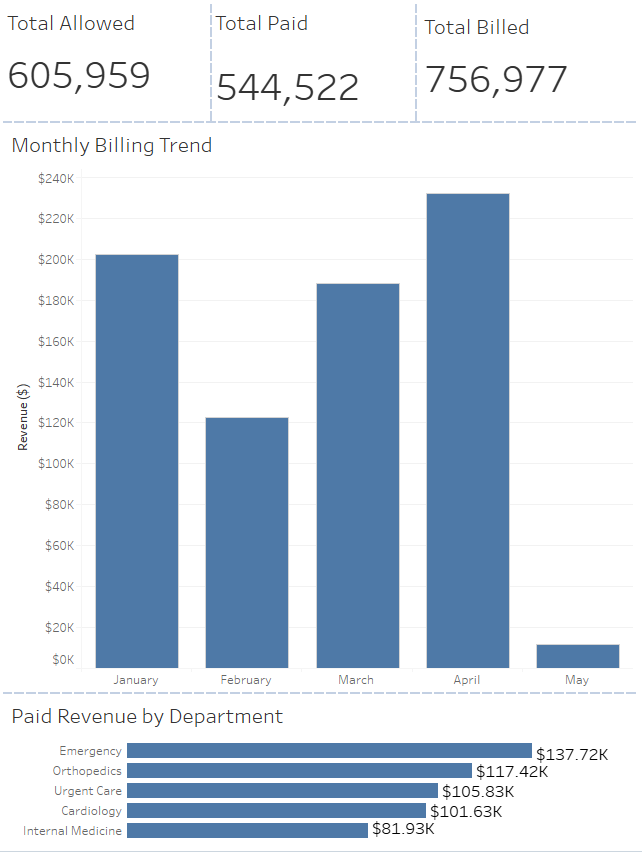

The page's visual inventory and layout, read from the dashboard file:
{"tool":"tableau","page":{"name":"Dashboard 1","canvas":[650,860],"ordinal":0},"visuals":[{"type":"worksheet","title":"Total Allowed","mark":"Text","box":[8,8,208,118.4]},{"type":"worksheet","title":"Total Paid","mark":"Text","box":[216,8,205,118.4]},{"type":"worksheet","title":"Total Billed","mark":"Text","box":[421,8,221,103.4]},{"type":"worksheet","title":"Monthly Billing Trend","mark":"Bar","rows":["billed_amount"],"cols":["encounter_date"],"box":[8,126.4,634,573]},{"type":"worksheet","title":"Paid Revenue by Department","mark":"Bar","rows":["department"],"cols":["paid_amount"],"box":[8,699.4,634,152.5]}]}

Visuals, with their boxes in screenshot pixels (x1, y1, x2, y2), scaled from the page's 650x860 canvas onto the 642x852 screenshot:
"Total Allowed" worksheet (Text marks): 8:8:213:125
"Total Paid" worksheet (Text marks): 213:8:416:125
"Total Billed" worksheet (Text marks): 416:8:634:110
"Monthly Billing Trend" worksheet (Bar marks): 8:125:634:693
"Paid Revenue by Department" worksheet (Bar marks): 8:693:634:844
